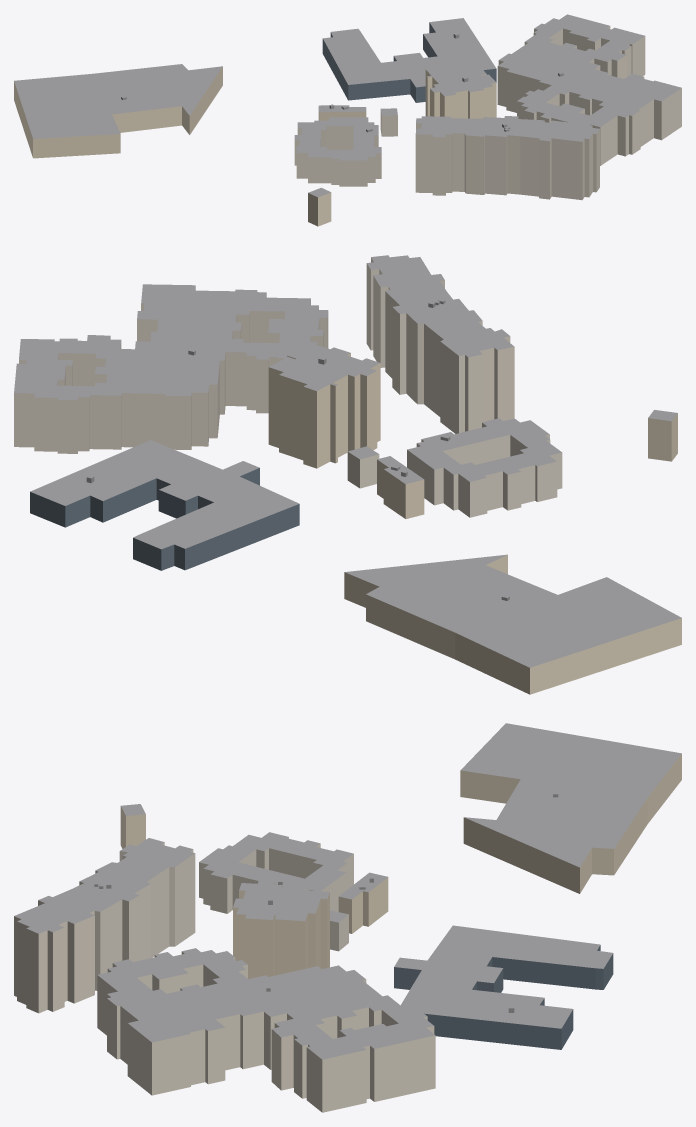
The model's file is building_-2_4.glb.
3 views of the same model, one above another, from view 1: azimuth 30°, elevation 25°; view 2: azimuth 150°, elevation 25°; view 3: azimuth 270°, elevation 25° (orthographic). The views are drawn at different scales.
Parts seen in each view (by area): view 1: roof, concrete_warm, sandstone, glass_dark; view 2: roof, concrete_warm, sandstone, glass_dark; view 3: roof, concrete_warm, sandstone, glass_dark.
Part boxes in pixels (x1,y1,x2,y2): roof: [14, 14, 681, 197]; concrete_warm: [294, 26, 681, 200]; sandstone: [14, 66, 496, 226]; glass_dark: [322, 22, 496, 102]; roof: [14, 255, 681, 667]; concrete_warm: [14, 258, 562, 517]; sandstone: [268, 353, 681, 694]; glass_dark: [30, 468, 299, 570]; roof: [14, 723, 681, 1059]; concrete_warm: [14, 837, 435, 1112]; sandstone: [120, 754, 681, 978]; glass_dark: [394, 945, 613, 1049].
Size of the model in its own units: 293 by 31.4 by 228.
